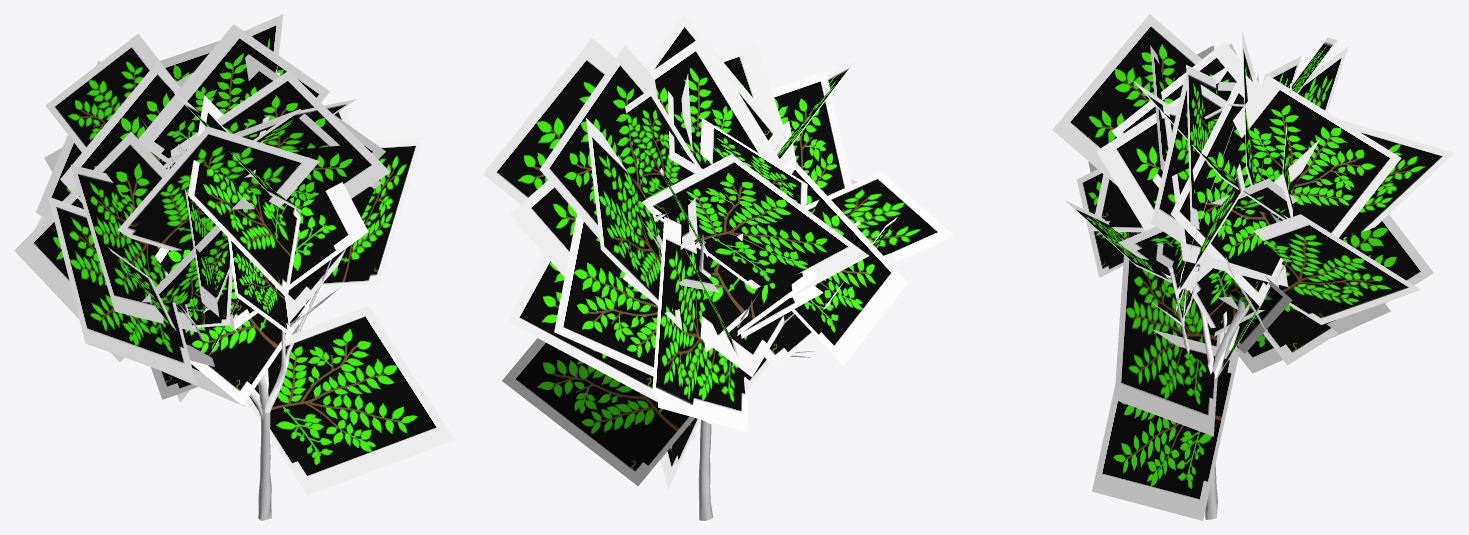
Rendered from tree_h.fbx.
3 views of the same model, side by side, from view 1: azimuth 30°, elevation 25°; view 2: azimuth 150°, elevation 25°; view 3: azimuth 270°, elevation 25° (orthographic). The views are drawn at different scales.
Parts seen in each view (by area): view 1: tree_h; view 2: tree_h; view 3: tree_h.
Boxes of the visible parts, x1=… form: tree_h: x1=14, y1=14, x2=454, y2=520; tree_h: x1=483, y1=14, x2=954, y2=520; tree_h: x1=1052, y1=14, x2=1454, y2=520.
Bounding box in the file's own units: 25.89 × 29.73 × 22.59.
Materials: 2 (1 with a texture image).
